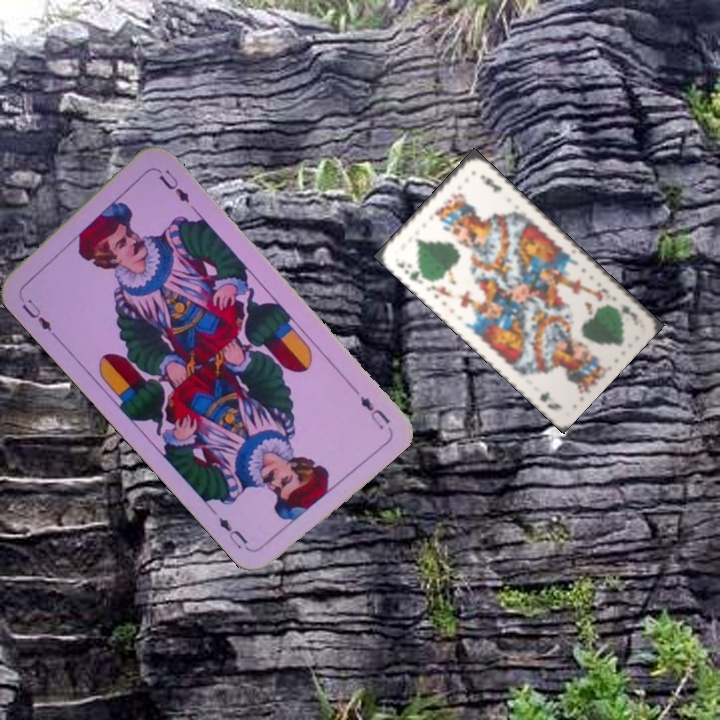EU: (15, 291, 55, 334), (356, 392, 393, 433)
GK: (391, 257, 428, 284), (609, 300, 636, 317)
